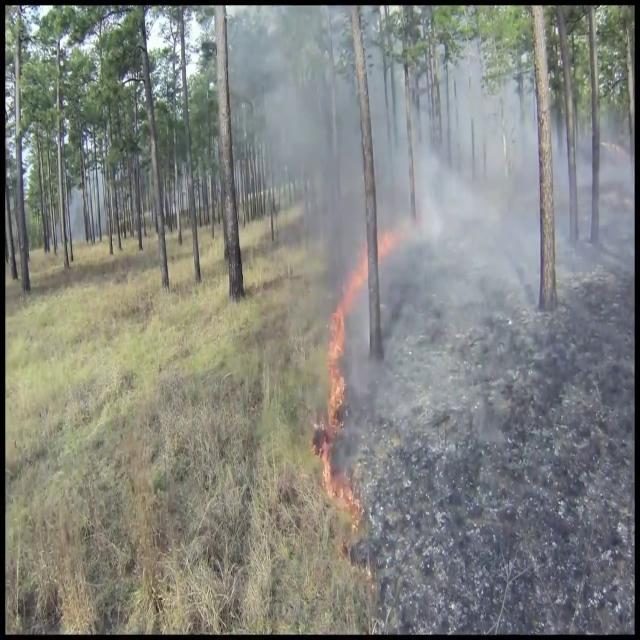Fire: (321, 274, 352, 438)
Smoke: (256, 18, 630, 504)
